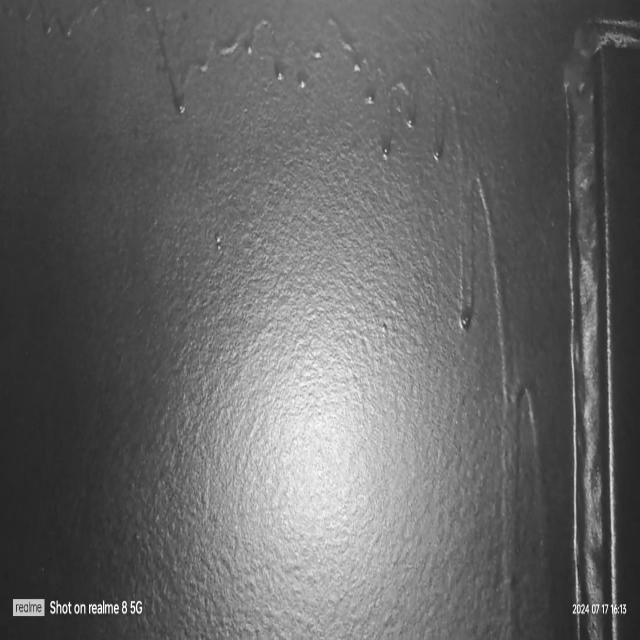paint drips: (138, 0, 574, 640), (0, 0, 124, 46)
